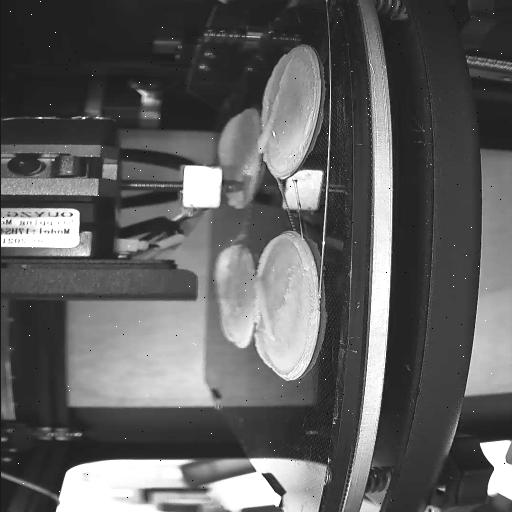over_extrusion: (254, 62, 292, 153), (252, 276, 278, 370), (256, 234, 306, 274), (211, 244, 240, 302), (214, 116, 240, 174), (218, 316, 238, 342)
